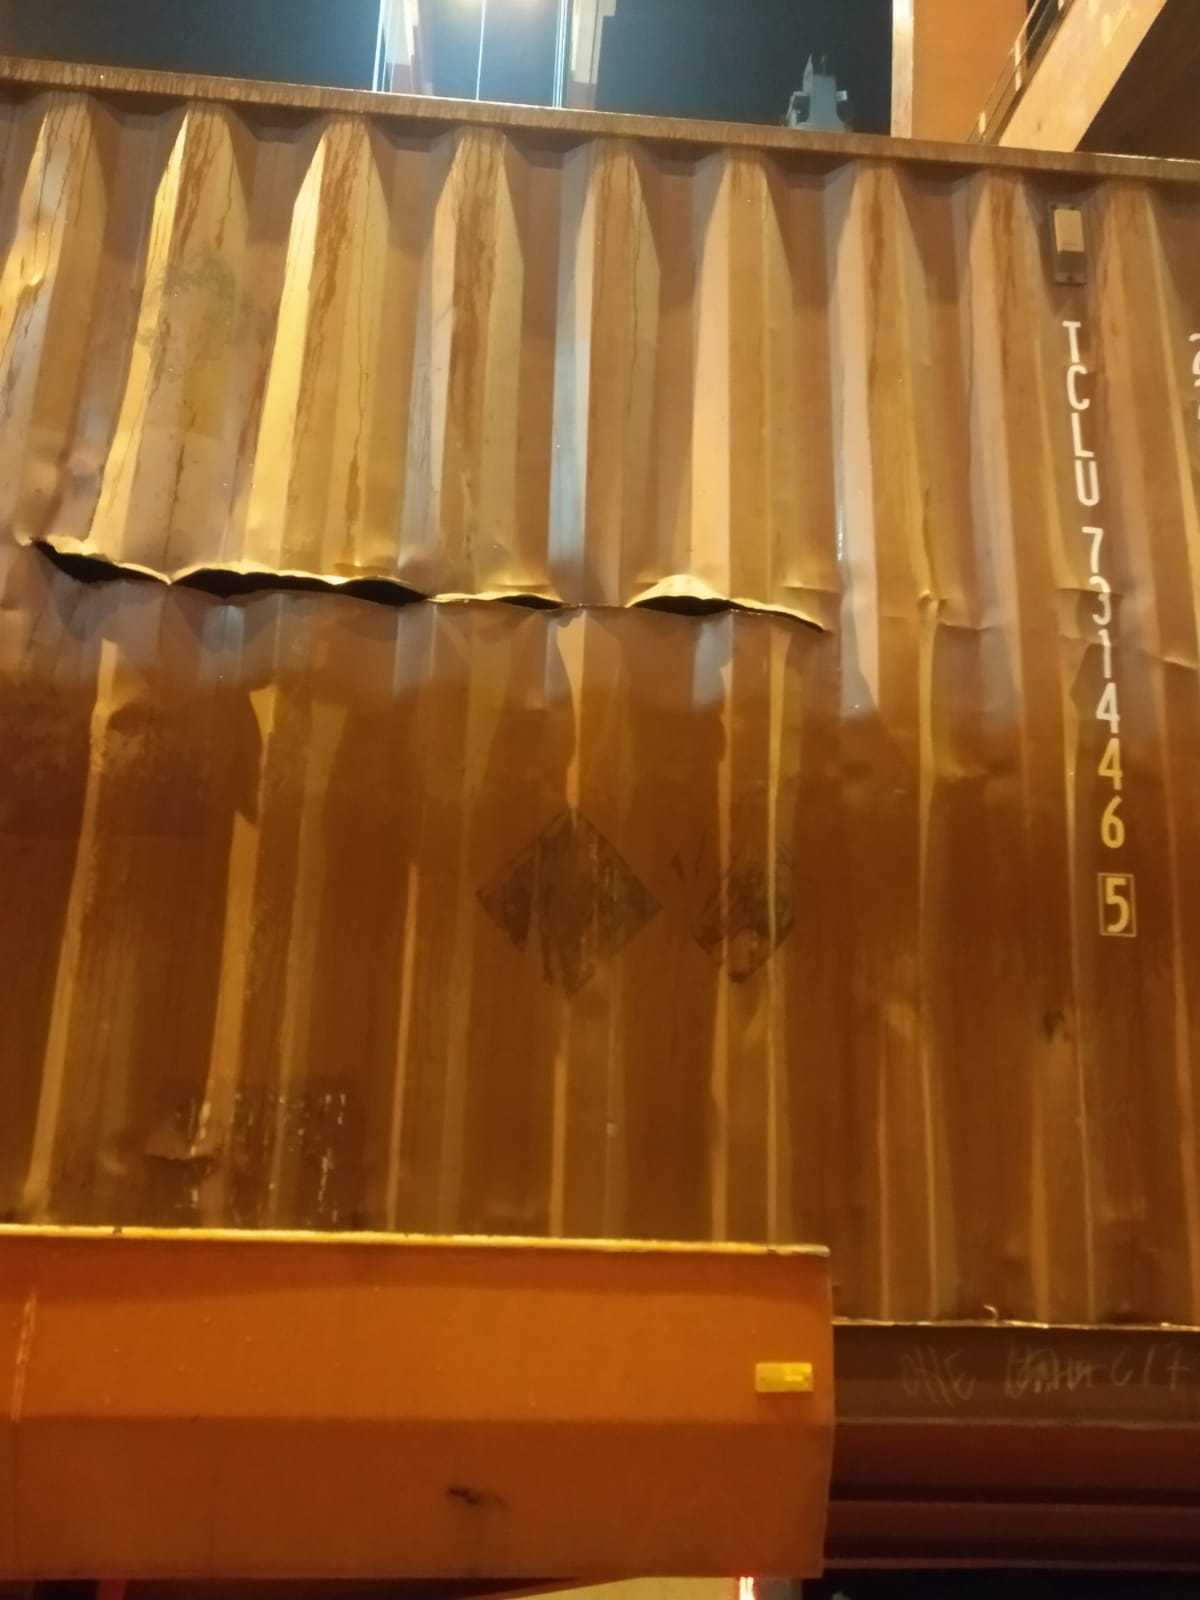severe: (16, 491, 850, 671)
